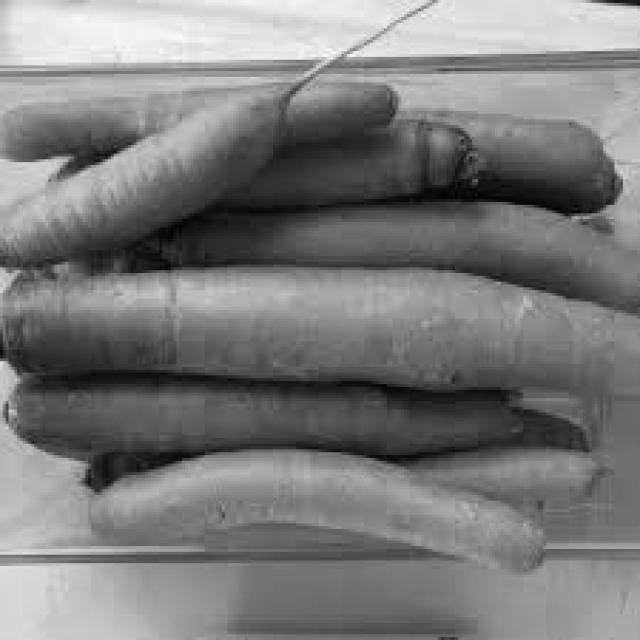Stale_Carrot: (0, 250, 403, 385), (0, 268, 184, 385), (246, 126, 500, 205), (184, 67, 464, 132), (503, 126, 633, 216)
